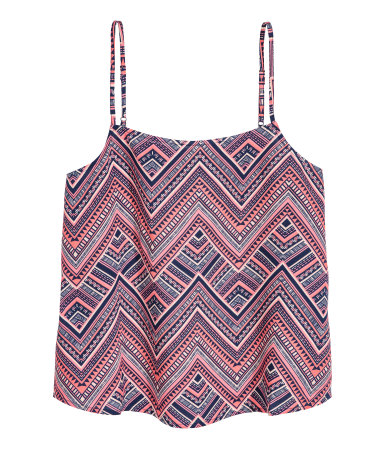top: (0, 0, 384, 449)
